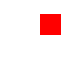square: (40, 14, 60, 34)
